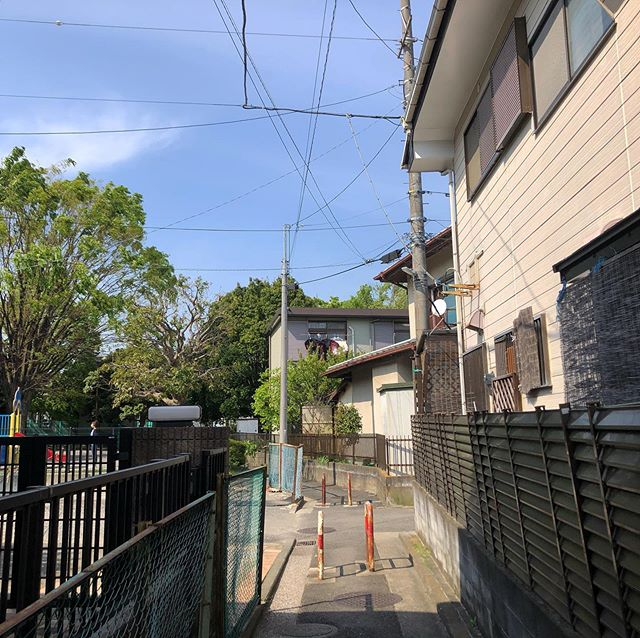building: (419, 1, 640, 590), (279, 304, 419, 476)
sky: (1, 1, 398, 211)
tree: (1, 140, 193, 420)
